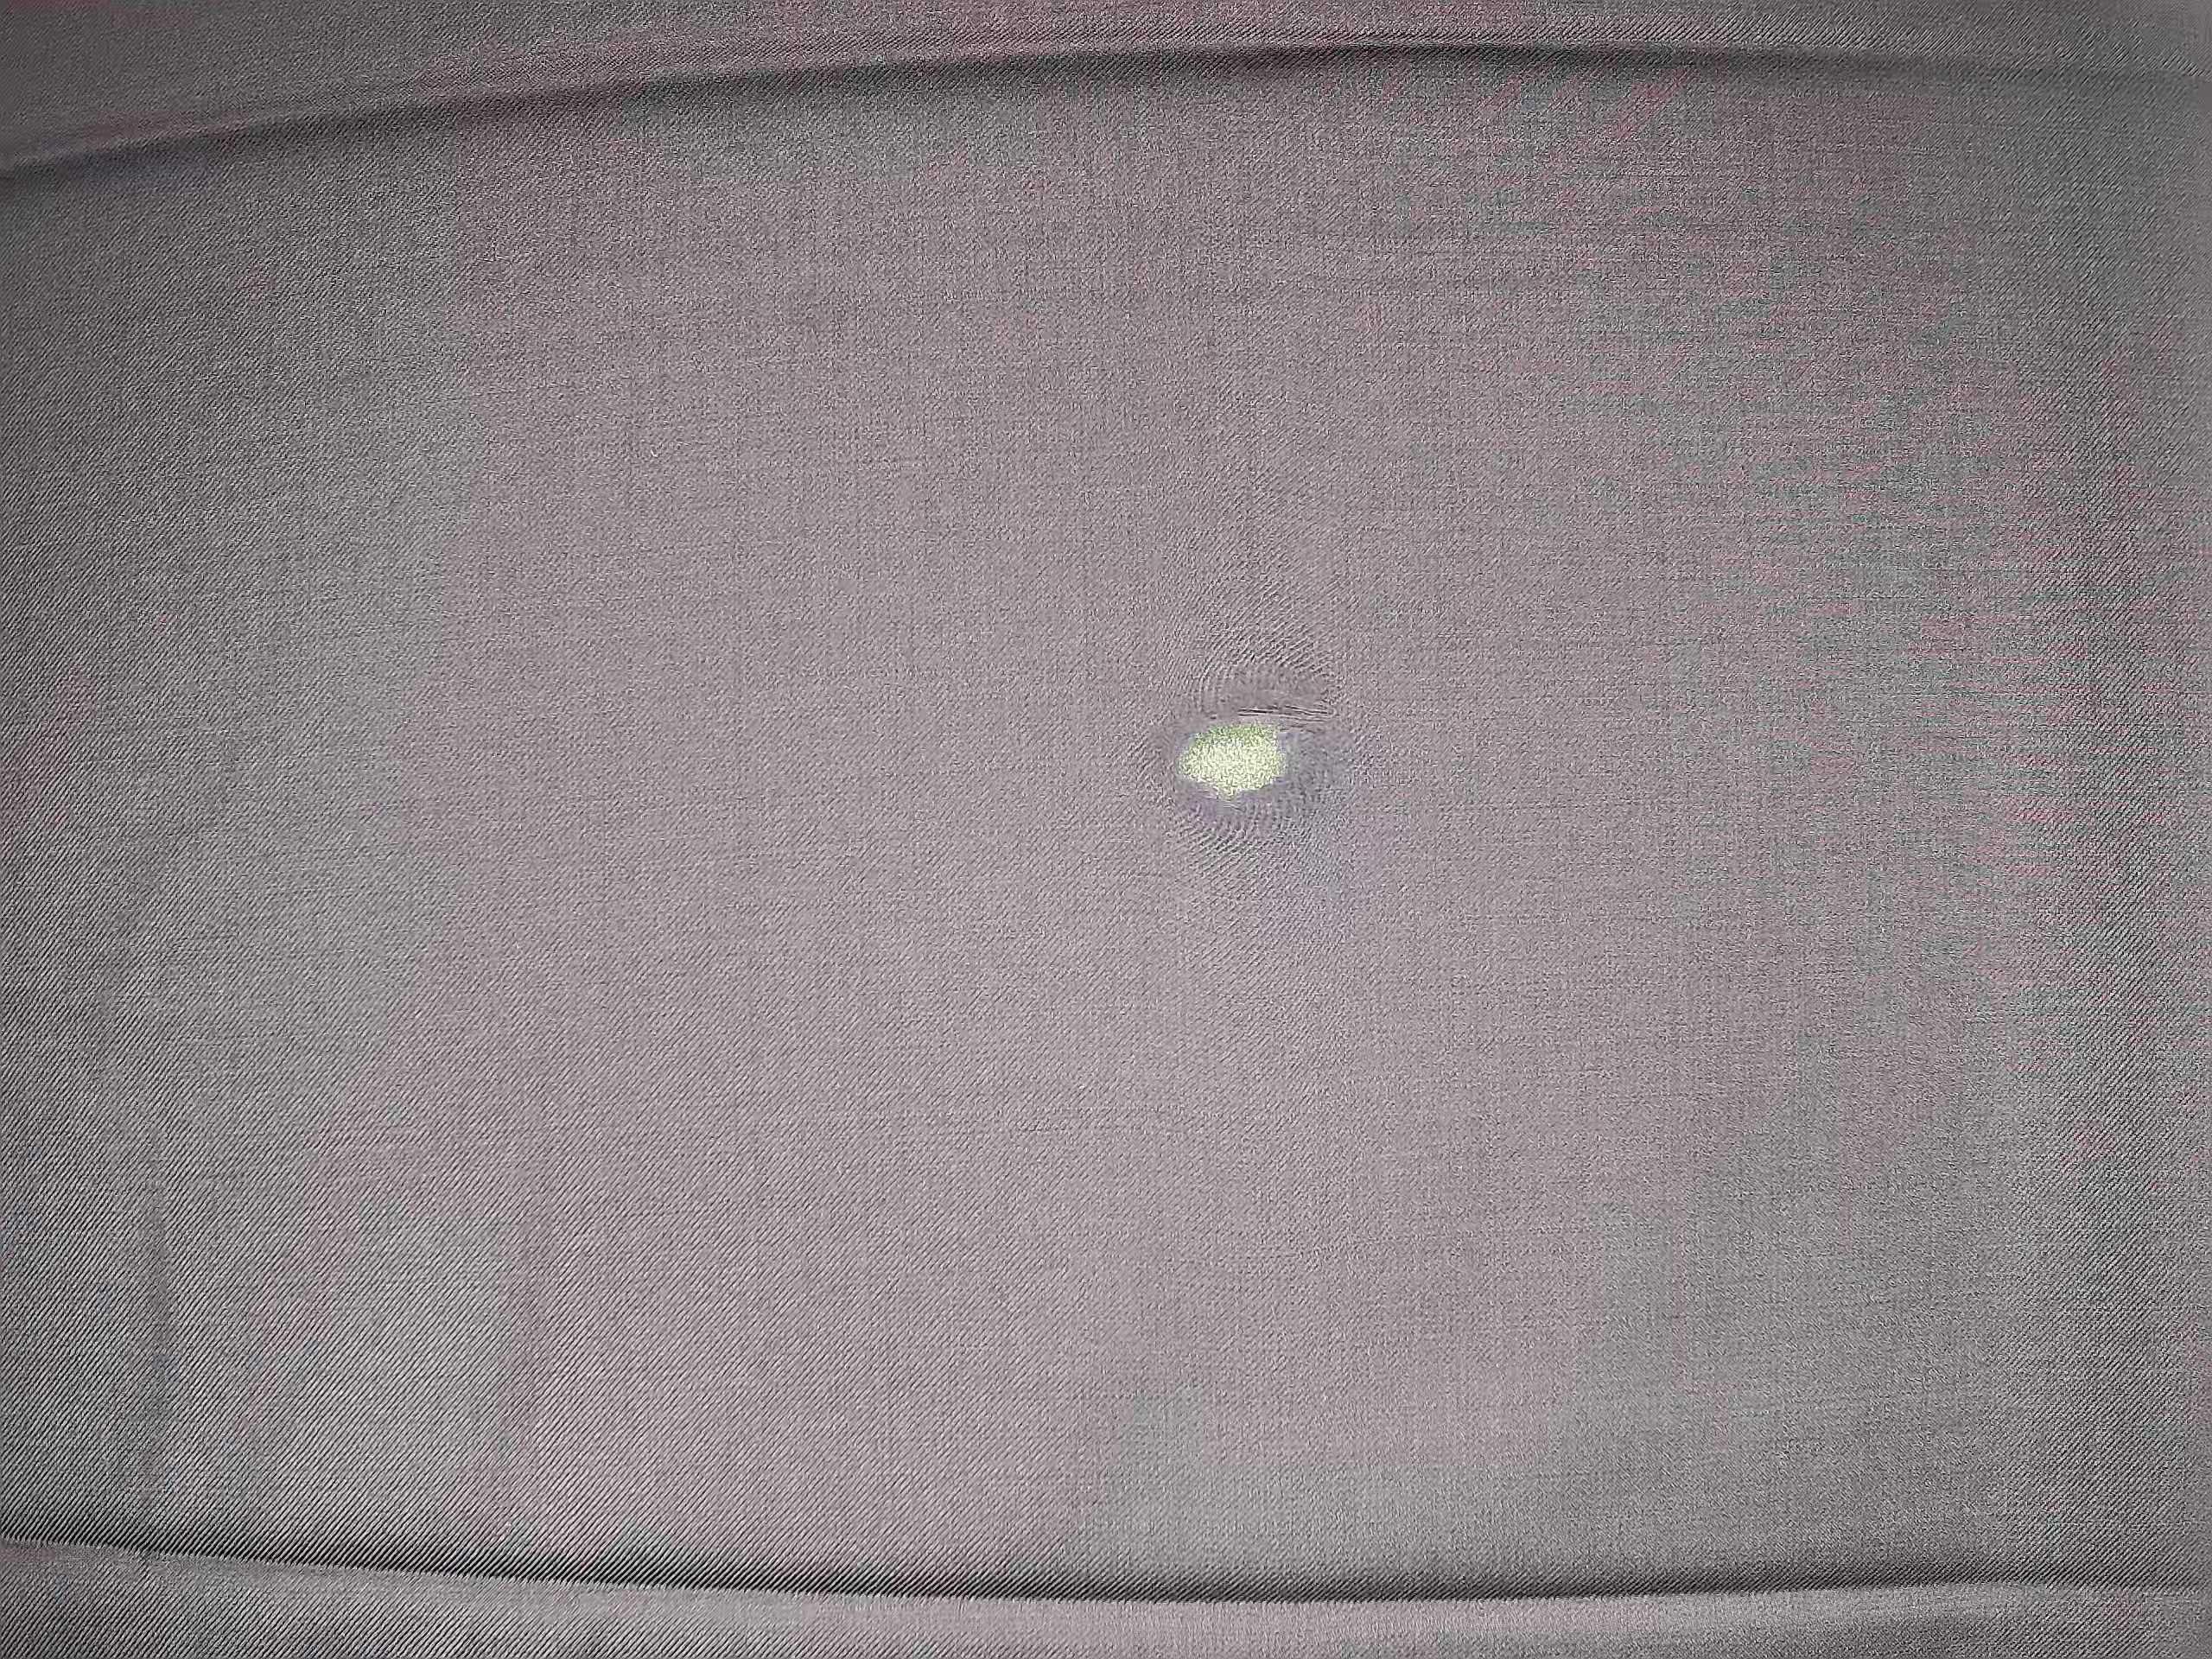brushed-hole: (1116, 627, 1359, 870)
